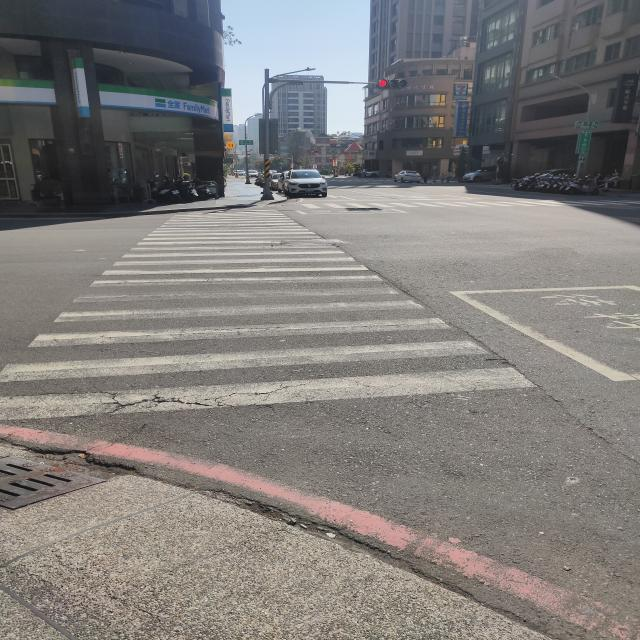zebra crossing: (0, 208, 523, 417), (299, 199, 640, 210)
